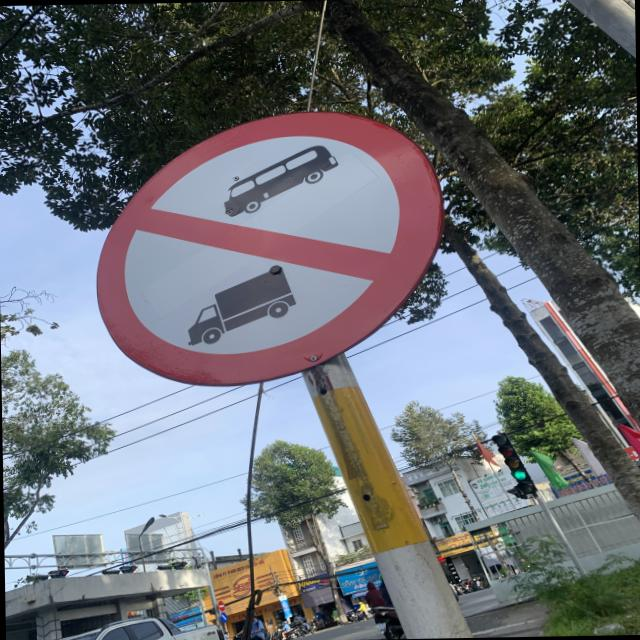Cam_XeTai_XeKhach: (93, 109, 444, 391)
